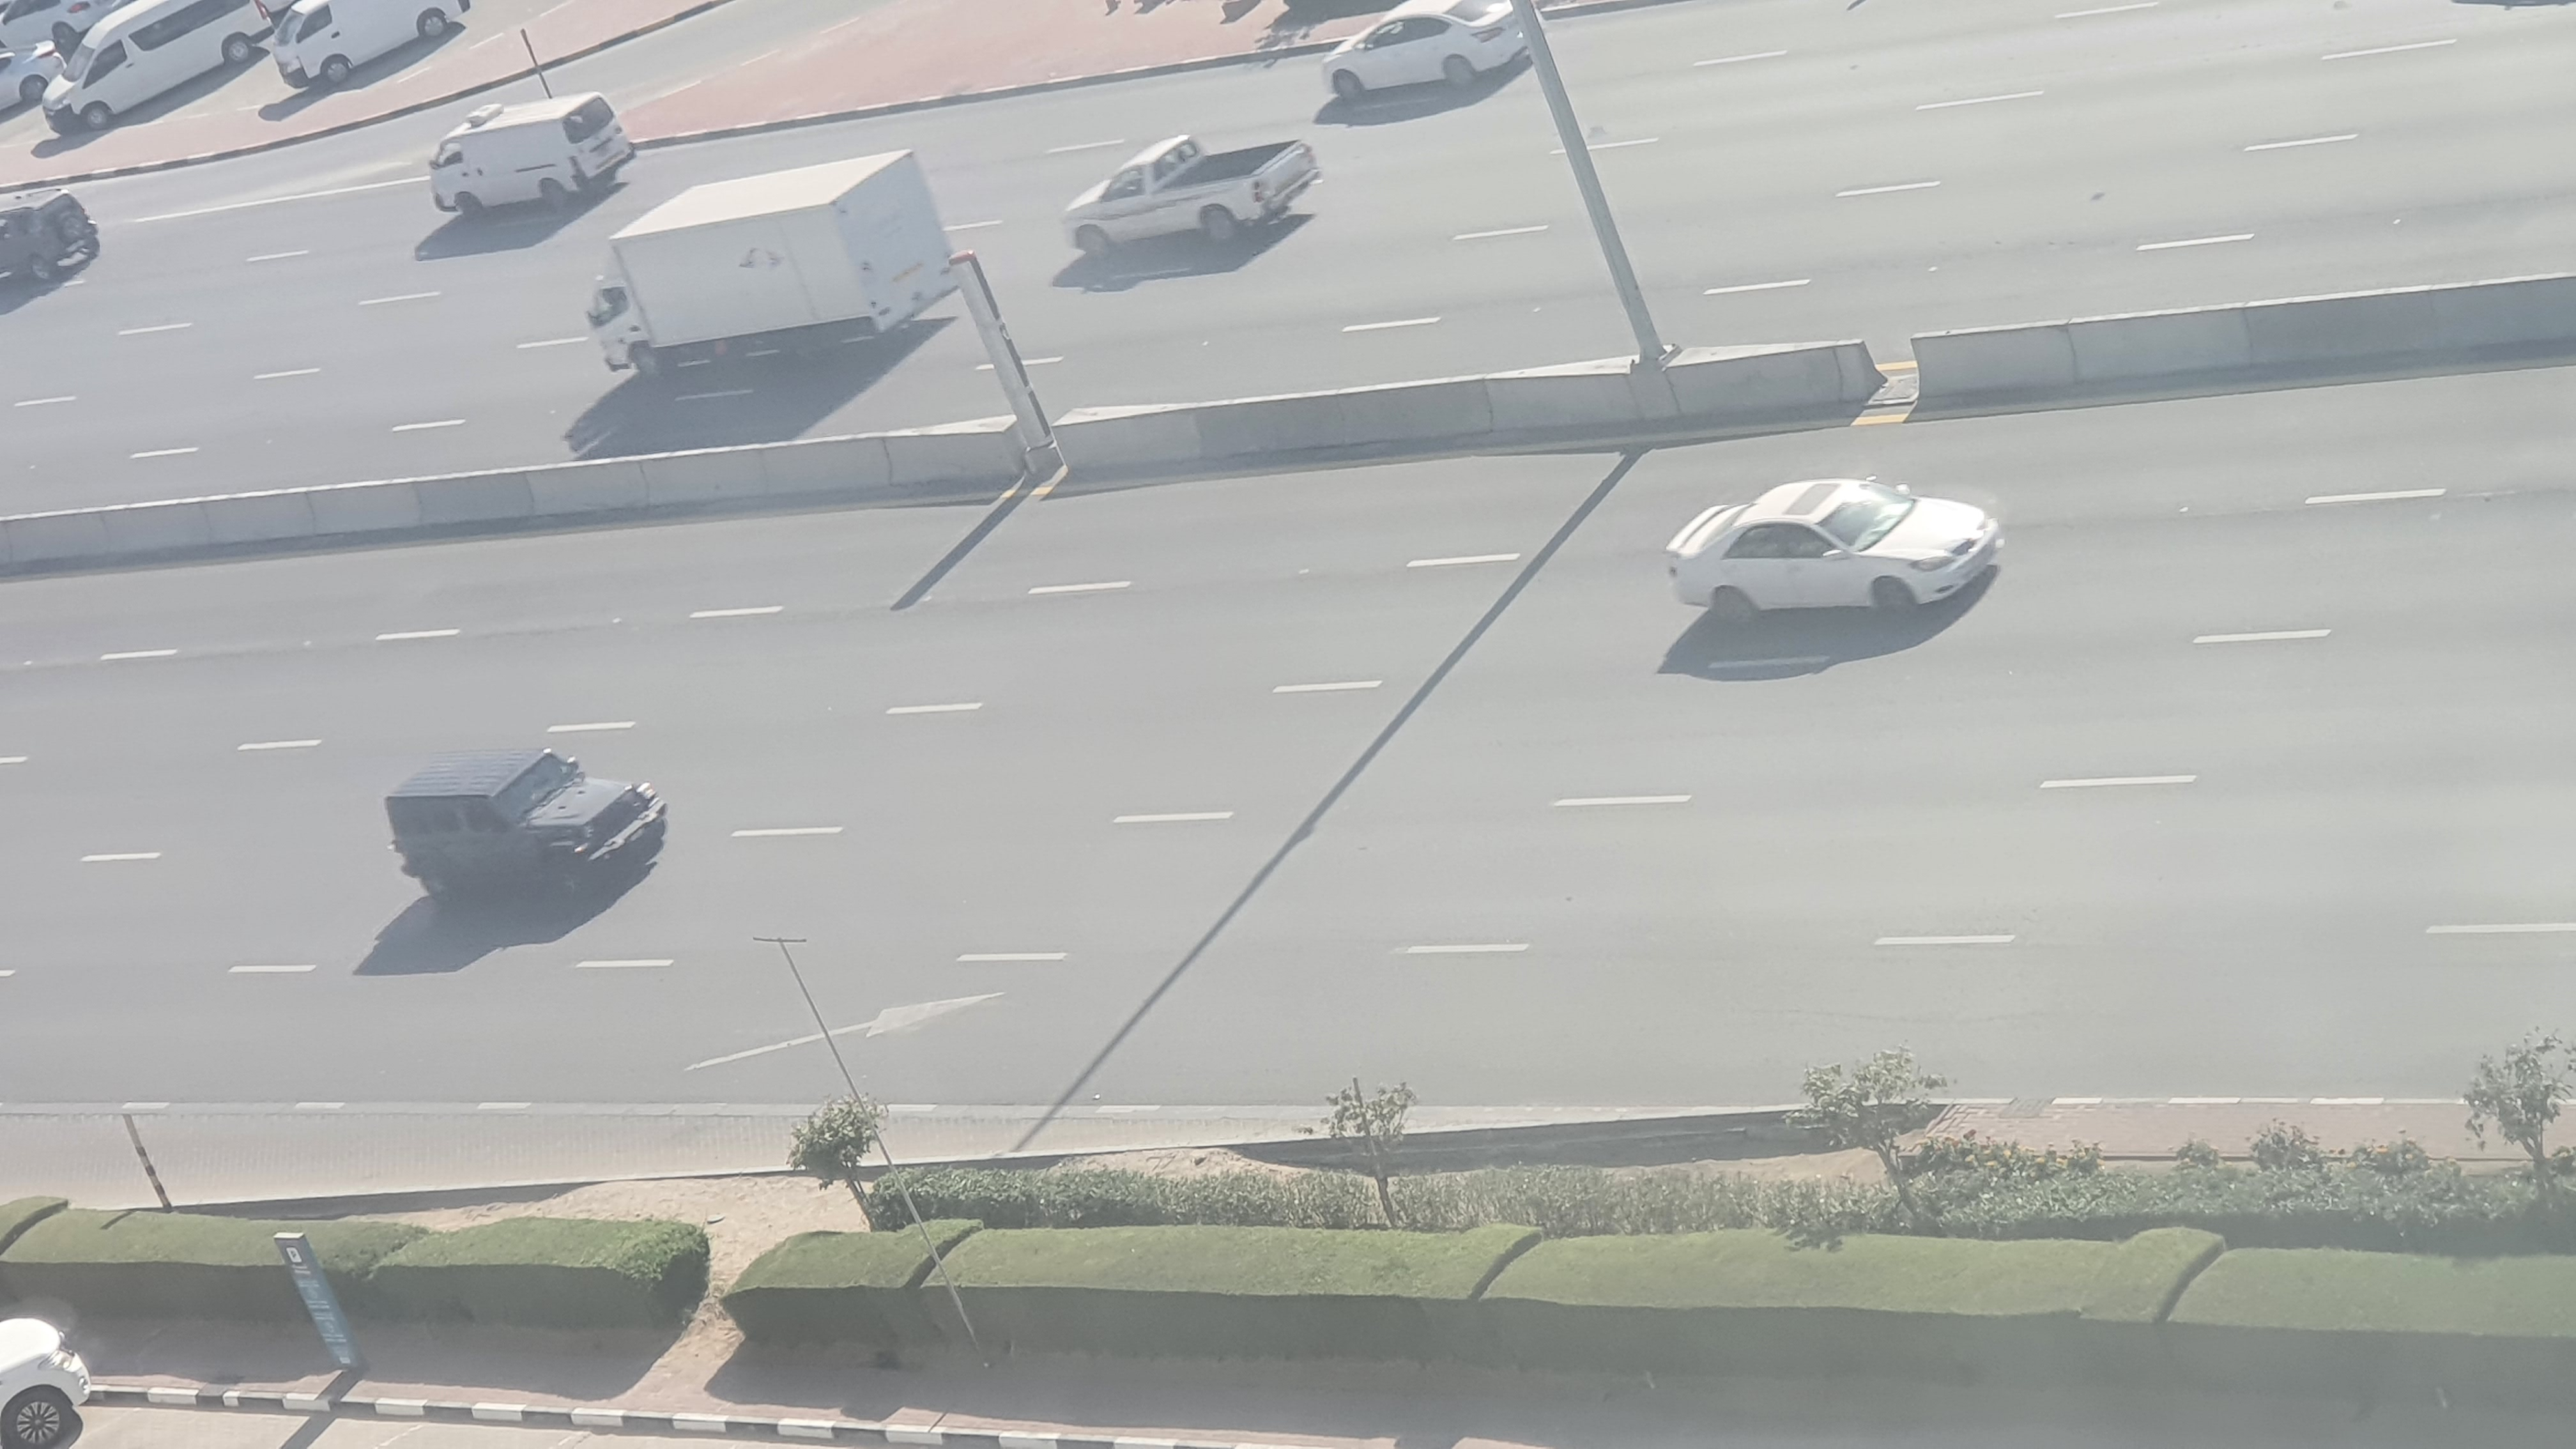NotSunroof: (380, 745, 669, 913)
Sunroof: (1668, 474, 2012, 628)
